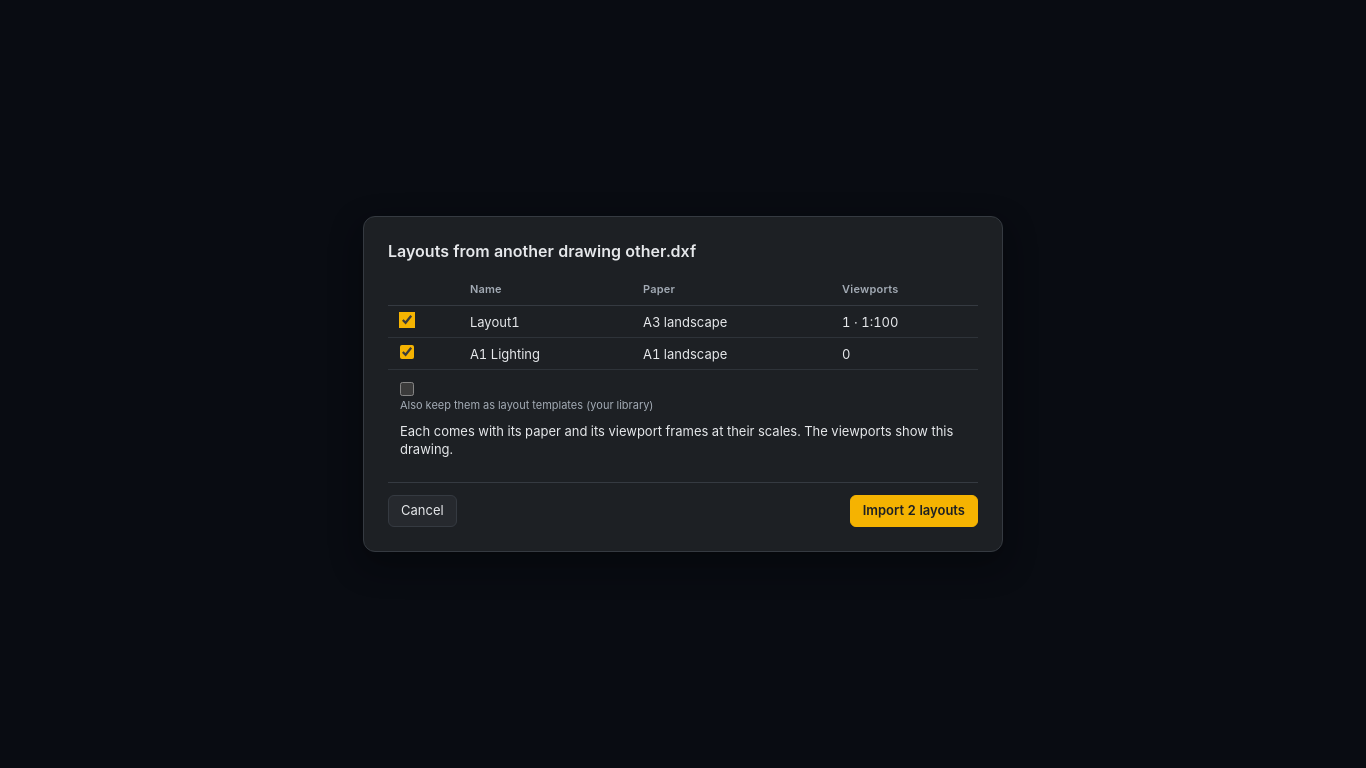
Layouts from another drawing dialog › lists the layouts with all ticked; the button counts the ticked; none ticked cannot import
Check: the heading "Layouts from another drawing other.dxf" is shown, box [388, 241, 696, 261]
Check: the button "Import 2 layouts" is shown, box [850, 495, 978, 527]
Click the checkbox named "Import A1 Lighting". click: (407, 352)
box: [400, 345, 414, 359]
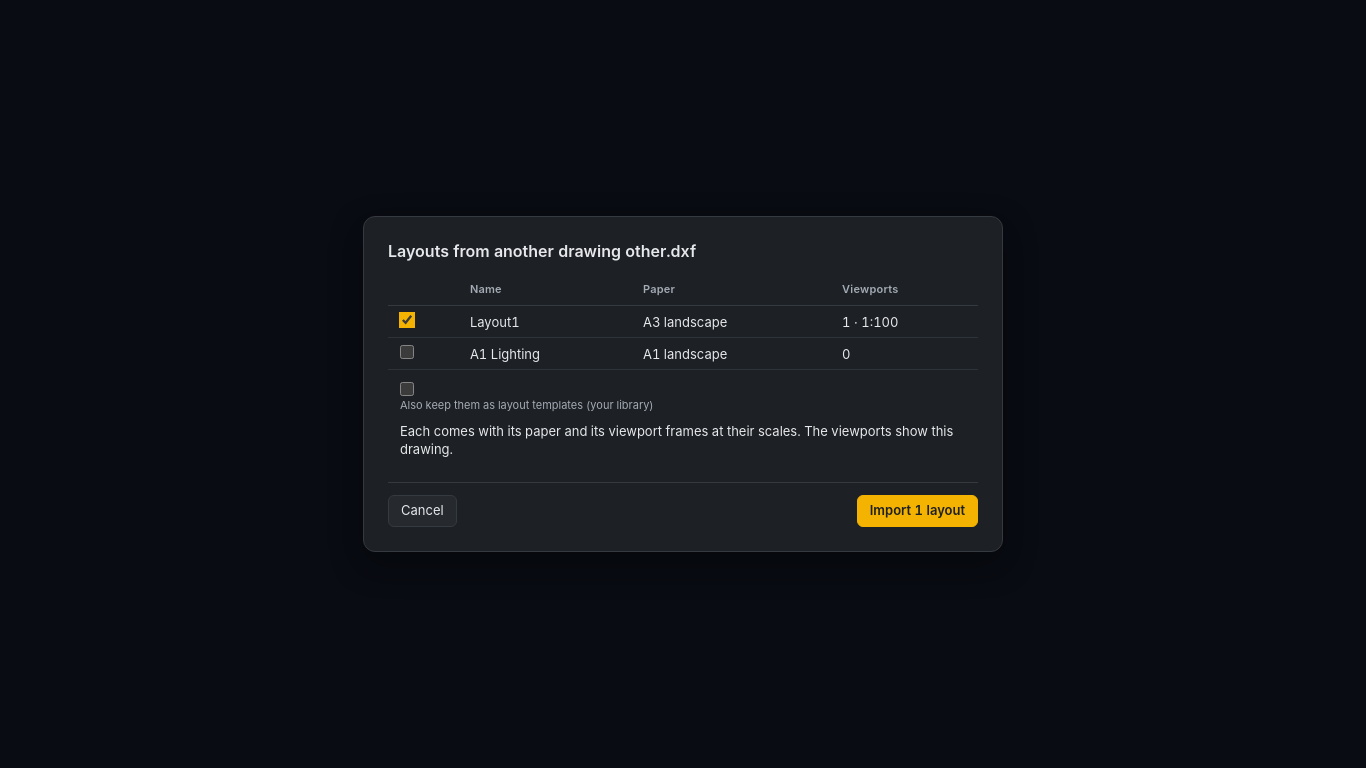
Check: the button "Import 1 layout" is shown, box [857, 495, 978, 527]
Click the checkbox named "Import Layout1". click: (407, 320)
box: [400, 313, 414, 327]
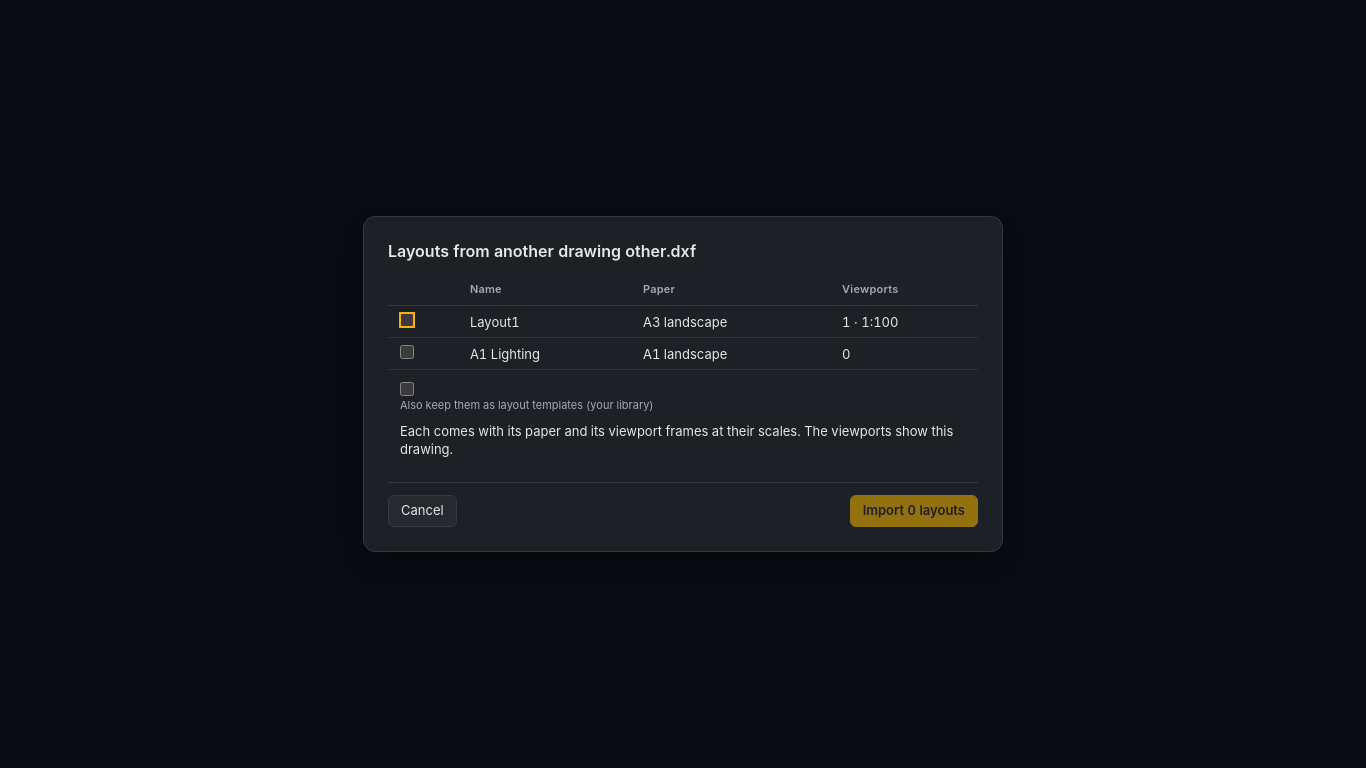
Check: the button "Import 0 layouts" is disabled, box [850, 495, 978, 527]
